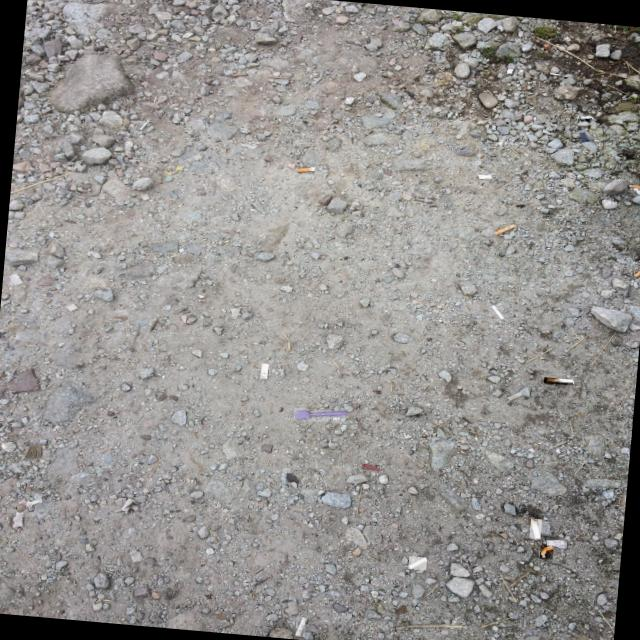Cigarette: (494, 224, 515, 235), (408, 557, 426, 569), (295, 617, 306, 636), (530, 519, 540, 539), (490, 305, 503, 320), (121, 498, 134, 512), (543, 378, 573, 384), (540, 546, 553, 558), (547, 541, 566, 549), (260, 364, 268, 379), (297, 167, 314, 173), (579, 116, 592, 120), (627, 185, 640, 189), (478, 175, 490, 179), (550, 73, 565, 76), (506, 70, 513, 75)
Other container: (295, 410, 347, 419)
Unlabeled litter: (362, 465, 379, 471)
